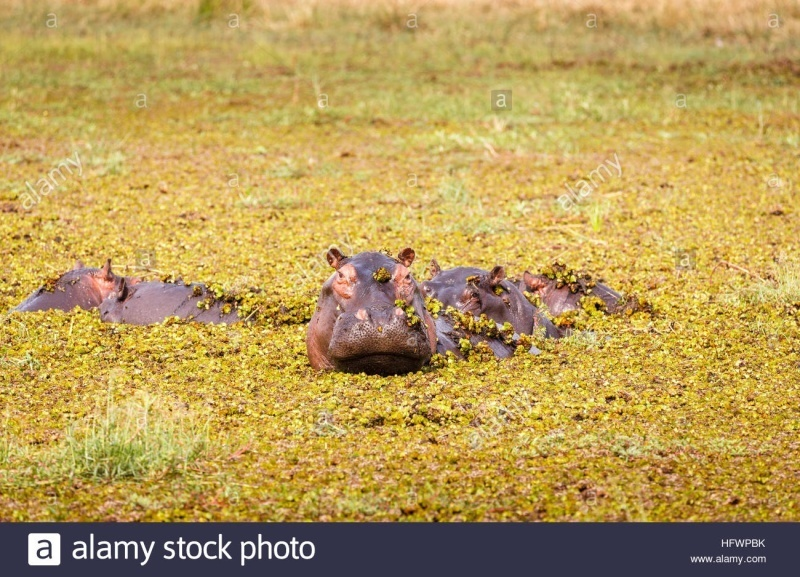hipopotamo: (296, 239, 447, 382), (15, 261, 249, 334), (423, 251, 564, 368), (515, 244, 644, 325)
